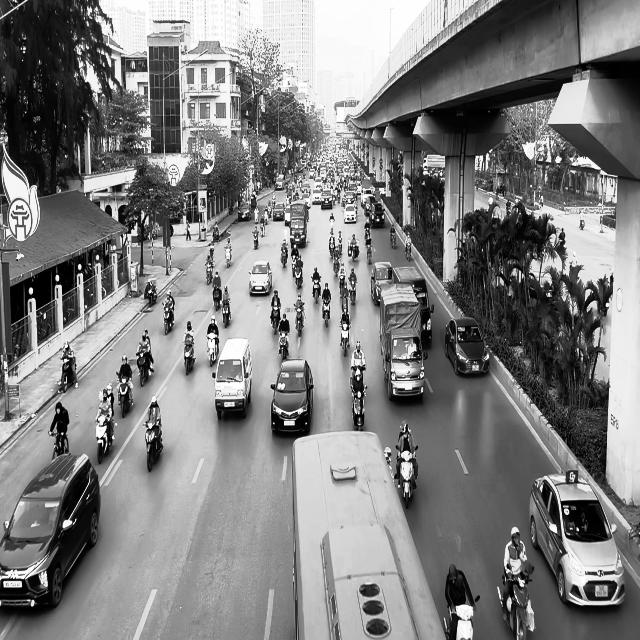car: (0, 452, 101, 609), (529, 468, 625, 608), (212, 338, 252, 420), (270, 358, 313, 434), (444, 316, 490, 376), (370, 261, 393, 305), (248, 260, 272, 295)
motorbike: (497, 562, 535, 640), (395, 444, 418, 508), (143, 419, 163, 472), (95, 416, 116, 463), (57, 355, 78, 393), (116, 372, 133, 418), (350, 384, 367, 429), (136, 350, 154, 386), (48, 430, 69, 460), (183, 337, 195, 375), (206, 332, 219, 366), (294, 303, 306, 336), (339, 321, 350, 356), (162, 302, 174, 334), (278, 329, 289, 361), (321, 296, 331, 326), (146, 279, 157, 306), (221, 299, 231, 327), (270, 307, 280, 333), (312, 277, 321, 303), (224, 244, 232, 268), (205, 261, 213, 284), (213, 288, 221, 310), (405, 242, 412, 261)
truck: (291, 430, 447, 638)
